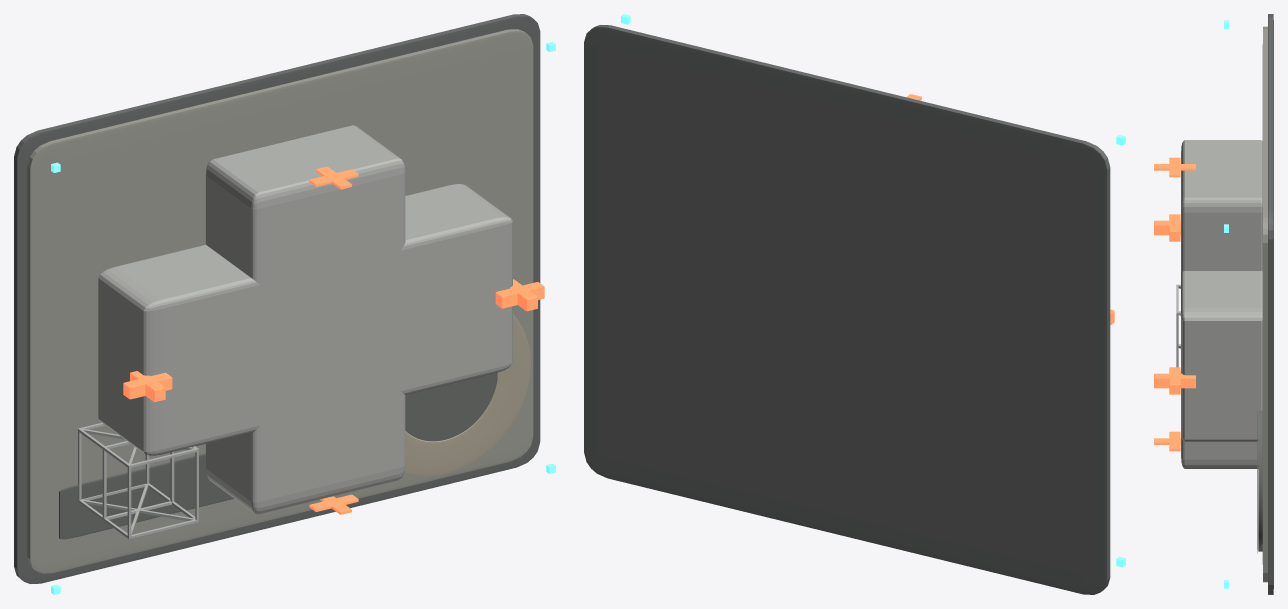
File: b-40-medical-center-lod1.glb
The picture shows the model from 3 angles, left to right: view 1: azimuth 30°, elevation 25°; view 2: azimuth 150°, elevation 25°; view 3: azimuth 270°, elevation 25°; orthographic projection. The views are drawn at different scales.
Parts seen in each view (by area): view 1: foundation_inner_pad, hospital_cross_wing, hospital_core, foundation, ambulance_loop_road, helipad_ring, primary_helipad, medical_cross_h_6.05_0; view 2: foundation; view 3: hospital_cross_wing, hospital_core, foundation, foundation_inner_pad, primary_helipad, medical_cross_v_6.05_0, medical_cross_v_-6.05_0, medical_cross_h_6.05_0, medical_cross_h_-6.05_0, medical_cross_v_0_5.05, medical_cross_h_0_-5.05, medical_cross_h_0_5.05.
Boxes of the visible parts, left/top/right/bottom form: foundation_inner_pad: left=27, top=29, right=533, bottom=573; hospital_cross_wing: left=98, top=184, right=512, bottom=455; hospital_core: left=205, top=125, right=405, bottom=514; foundation: left=14, top=14, right=540, bottom=583; ambulance_loop_road: left=59, top=453, right=233, bottom=539; helipad_ring: left=404, top=314, right=530, bottom=476; primary_helipad: left=405, top=372, right=497, bottom=441; medical_cross_h_6.05_0: left=495, top=282, right=544, bottom=308; foundation: left=584, top=25, right=1110, bottom=594; hospital_cross_wing: left=1181, top=271, right=1262, bottom=441; hospital_core: left=1181, top=140, right=1262, bottom=468; foundation: left=1268, top=14, right=1273, bottom=594; foundation_inner_pad: left=1262, top=26, right=1267, bottom=582; primary_helipad: left=1258, top=410, right=1262, bottom=551; medical_cross_v_6.05_0: left=1154, top=373, right=1195, bottom=388; medical_cross_v_-6.05_0: left=1154, top=220, right=1180, bottom=235; medical_cross_h_6.05_0: left=1169, top=367, right=1180, bottom=394; medical_cross_h_-6.05_0: left=1169, top=214, right=1180, bottom=241; medical_cross_v_0_5.05: left=1154, top=164, right=1195, bottom=170; medical_cross_h_0_-5.05: left=1169, top=431, right=1180, bottom=451; medical_cross_h_0_5.05: left=1169, top=157, right=1180, bottom=177.
Size of what is drawn, in the model's own units: 17 by 14 by 4.
